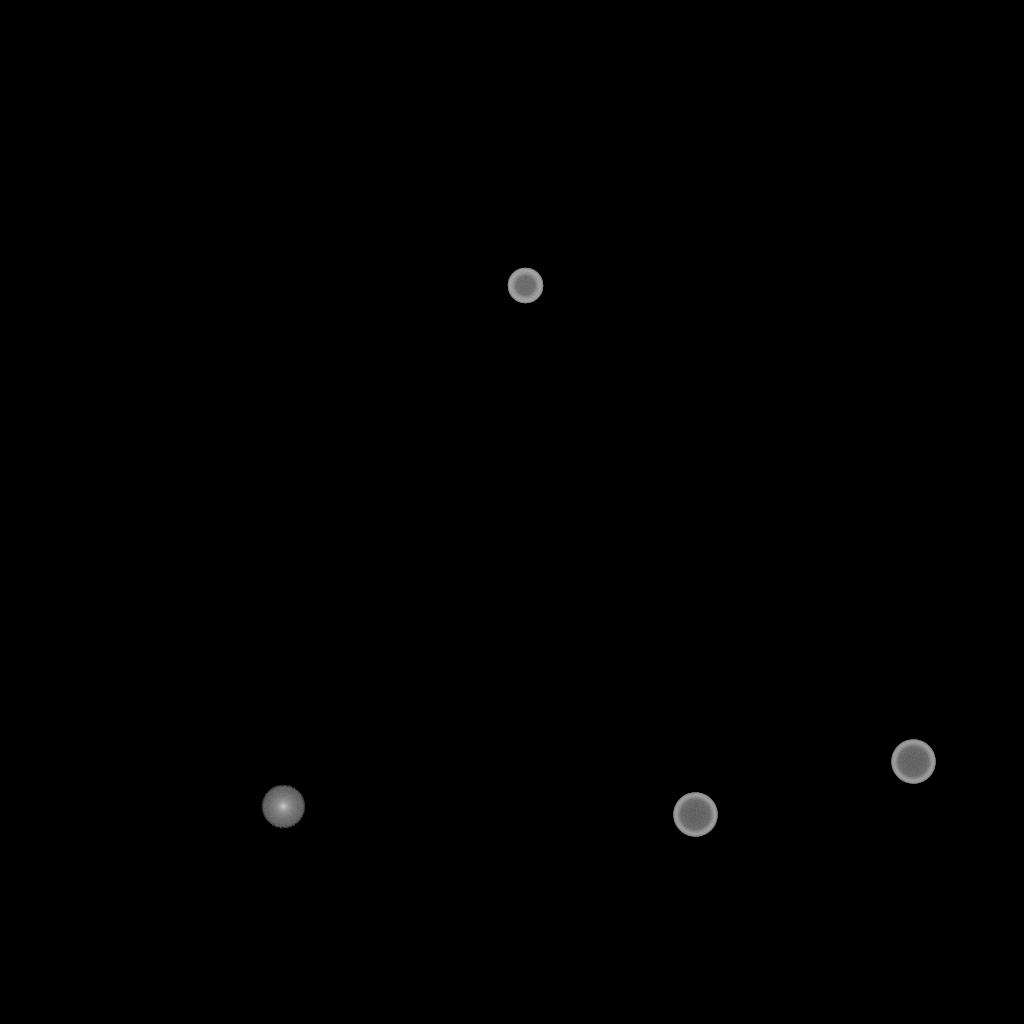depth:-60: (507, 268, 543, 304)
depth:-70: (673, 793, 717, 837), (891, 740, 935, 784)
depth:10: (261, 785, 305, 829)
